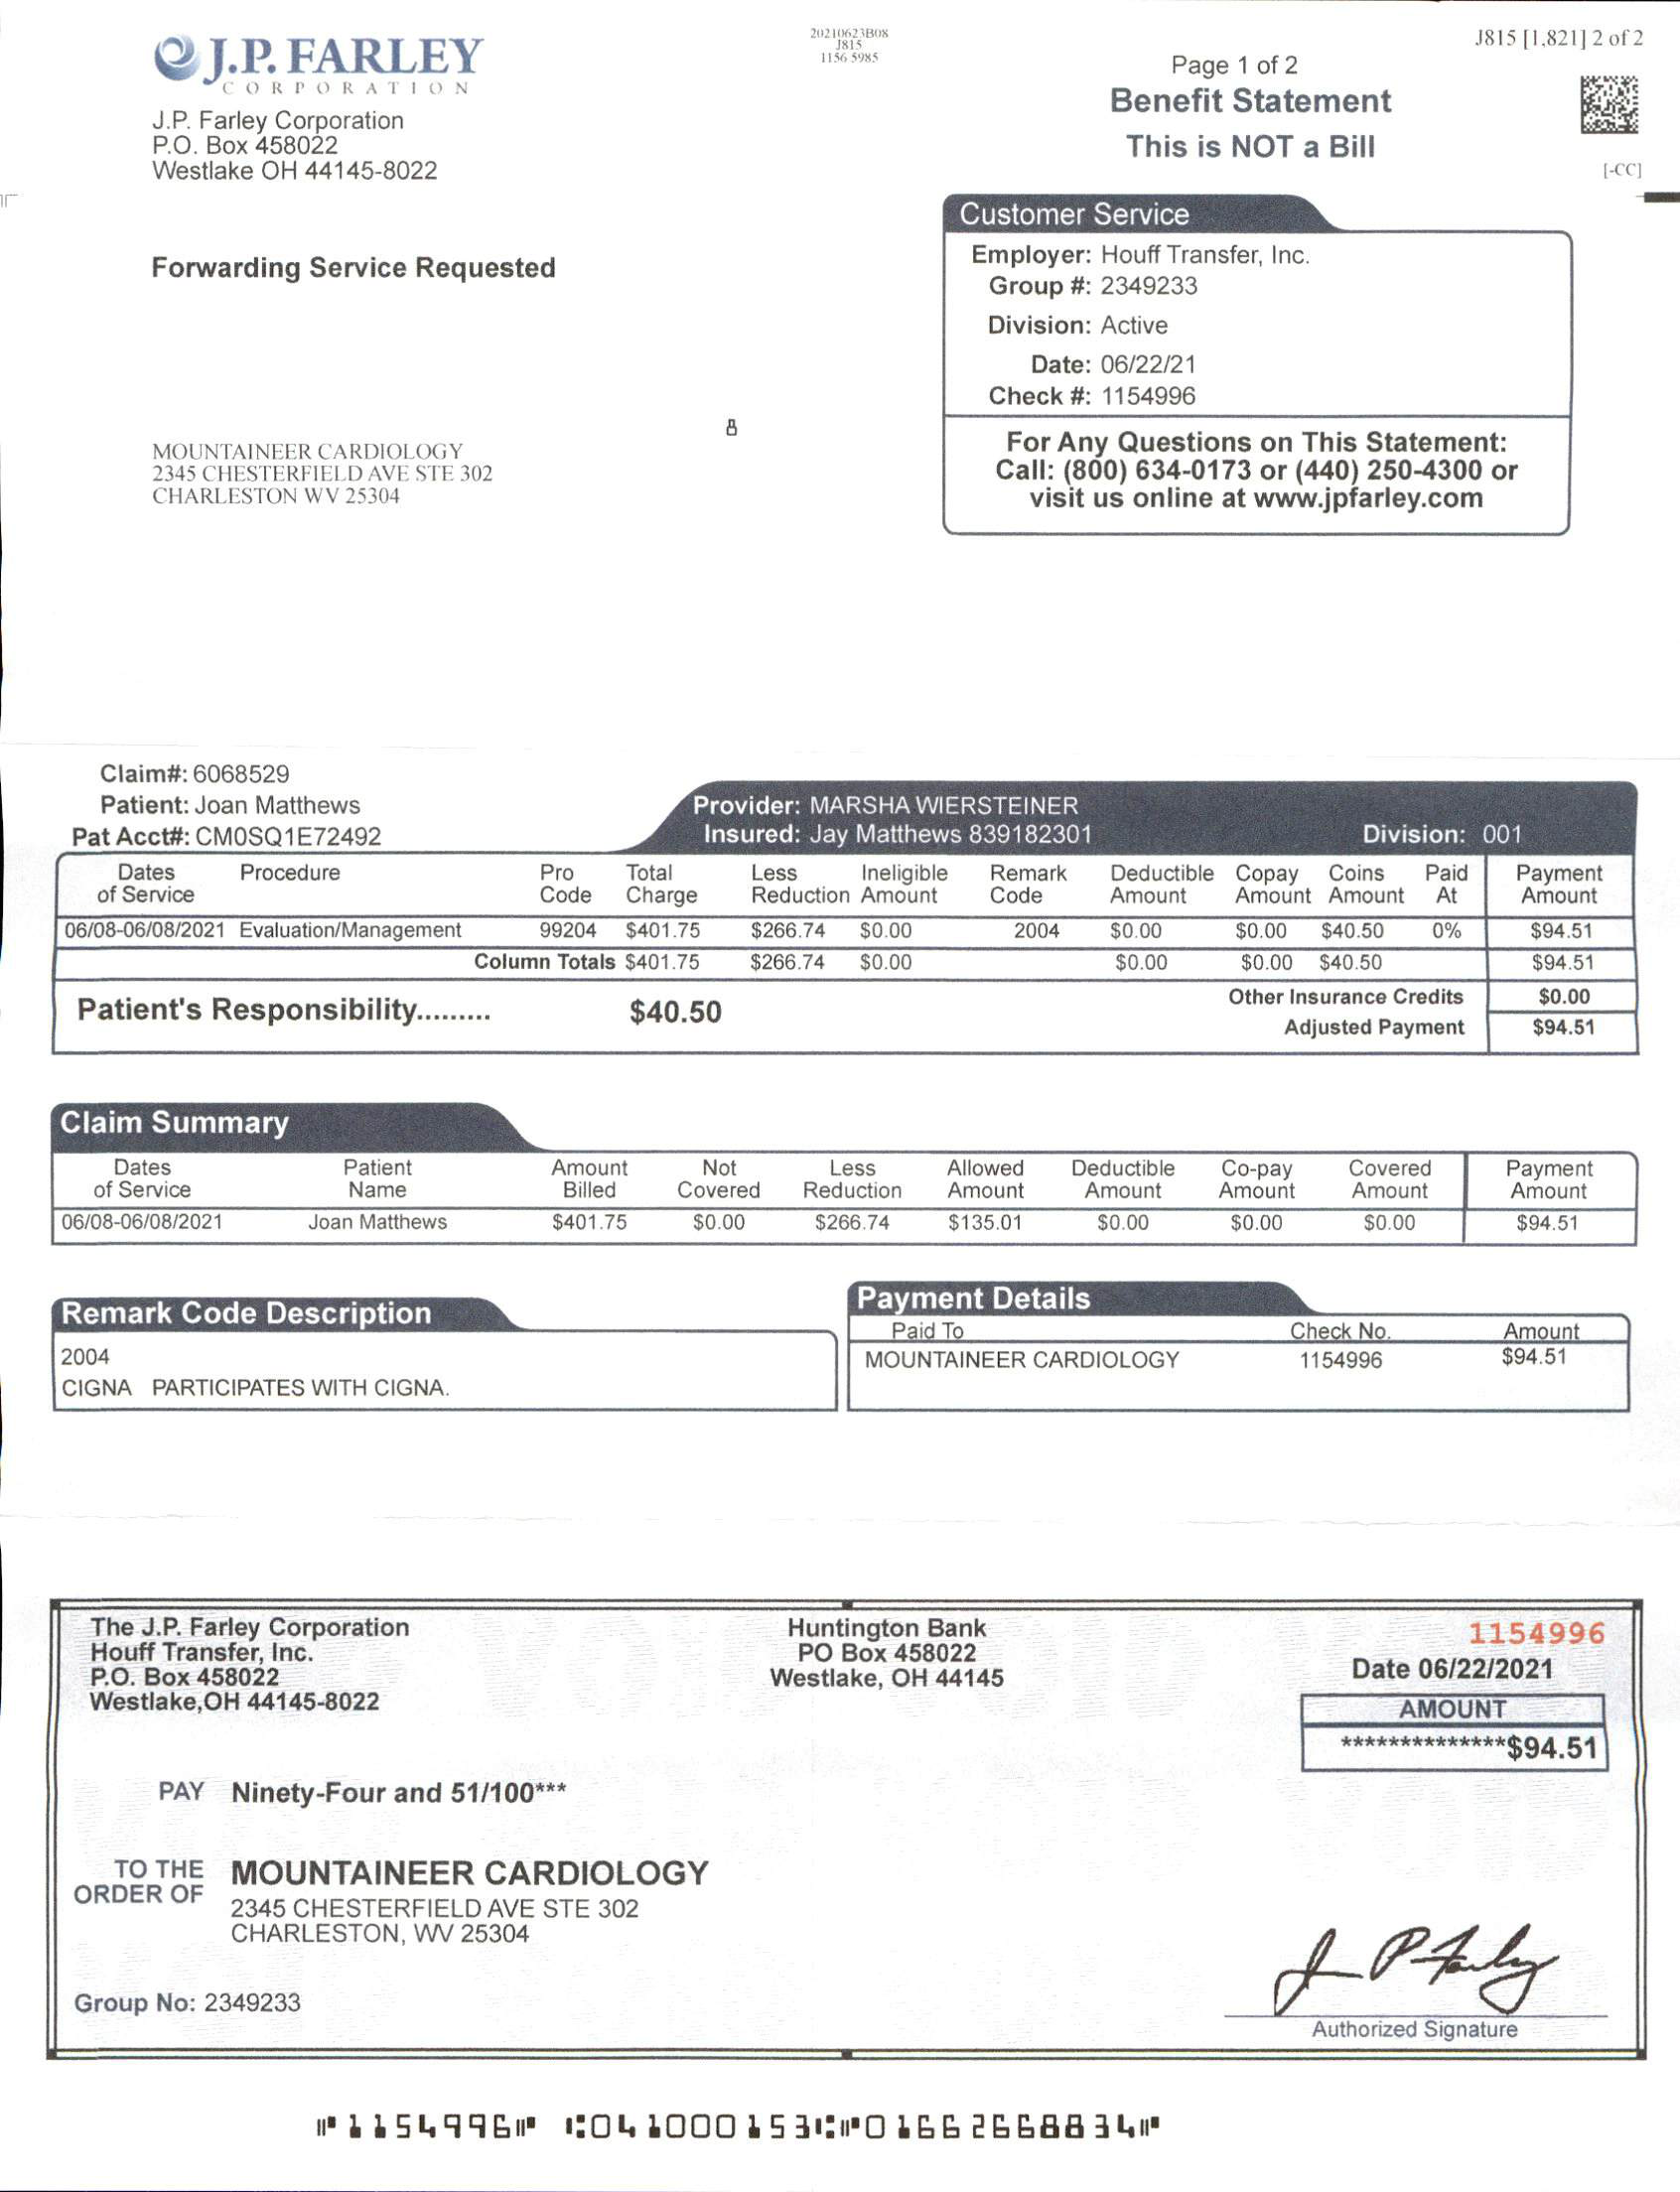data: (64, 739, 399, 851), (678, 773, 1117, 858)
table: (37, 1089, 1650, 1260), (934, 176, 1583, 545), (49, 854, 1639, 981), (849, 1262, 1650, 1433), (41, 1288, 838, 1423)
